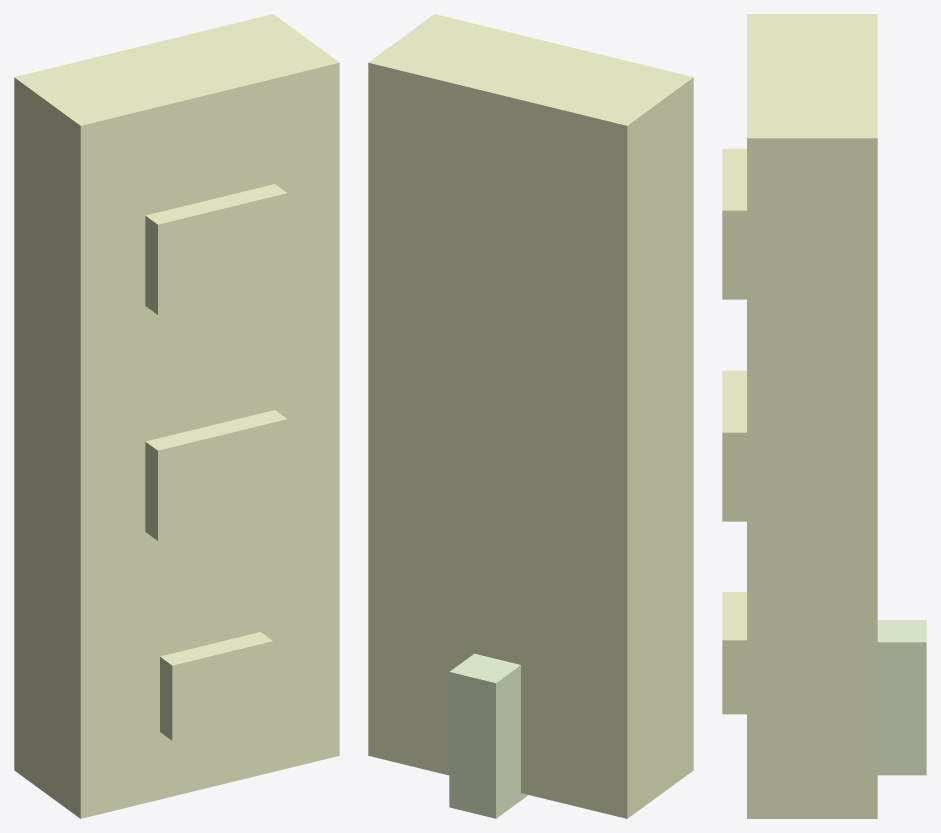
Rendered from signal_tram_priority_compact_3_aspect.glb.
3 views of the same model, side by side, from view 1: azimuth 30°, elevation 25°; view 2: azimuth 150°, elevation 25°; view 3: azimuth 270°, elevation 25° (orthographic).
Parts seen in each view (by area): view 1: housing, display_tram_stop, display_tram_go, display_tram_call; view 2: housing, bracket; view 3: housing, bracket, display_tram_stop, display_tram_go, display_tram_call.
Part boxes in pixels (x1,y1,x2,y2): housing: (14,14,339,818); display_tram_stop: (145,184,287,314); display_tram_go: (145,410,287,540); display_tram_call: (160,632,272,740); housing: (368,14,693,818); bracket: (449,653,528,818); housing: (747,14,877,818); bracket: (877,620,926,775); display_tram_stop: (722,148,746,299); display_tram_go: (722,370,746,521); display_tram_call: (722,592,746,714).
Bounding box in the file's own units: 0.36 × 0.93 × 0.25.
